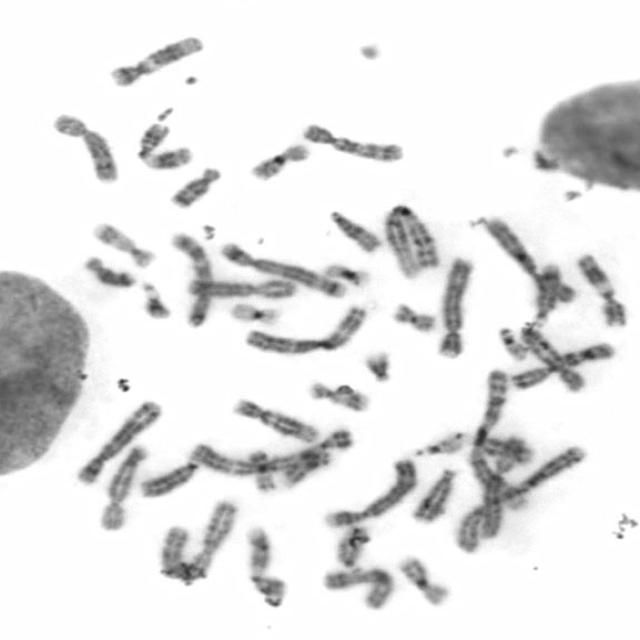A1: (470, 364, 546, 514), (376, 201, 441, 280)
A2: (446, 440, 589, 556), (157, 496, 242, 585)
A3: (238, 300, 370, 356), (186, 439, 330, 476)
B4: (320, 454, 420, 529), (432, 255, 476, 360)
B5: (71, 395, 163, 486), (216, 238, 347, 299)
C10: (514, 322, 586, 394), (298, 120, 406, 164)
C11: (572, 250, 628, 328), (133, 120, 195, 172)
C12: (106, 30, 206, 90), (226, 394, 321, 444)
C6: (484, 217, 579, 299), (475, 428, 530, 540)
C7: (506, 338, 616, 391), (166, 229, 217, 329)
C8: (47, 108, 122, 185), (94, 441, 150, 532)
C9: (275, 424, 355, 490), (241, 522, 287, 608)
D13: (406, 464, 459, 525), (135, 454, 202, 500)
D14: (453, 431, 539, 466), (528, 260, 562, 326)
D15: (325, 207, 383, 255), (333, 522, 368, 574)
E16: (394, 552, 451, 608), (243, 140, 313, 183)
E17: (89, 218, 156, 270), (304, 378, 371, 413)
E18: (164, 163, 224, 210), (80, 252, 136, 289)
F19: (225, 298, 285, 328), (320, 260, 372, 287)
F20: (388, 298, 437, 334), (243, 445, 278, 493)
G21: (136, 278, 173, 322), (359, 348, 395, 384)
G22: (408, 430, 466, 458), (494, 324, 529, 362)
X: (317, 563, 397, 612), (181, 275, 298, 300)
